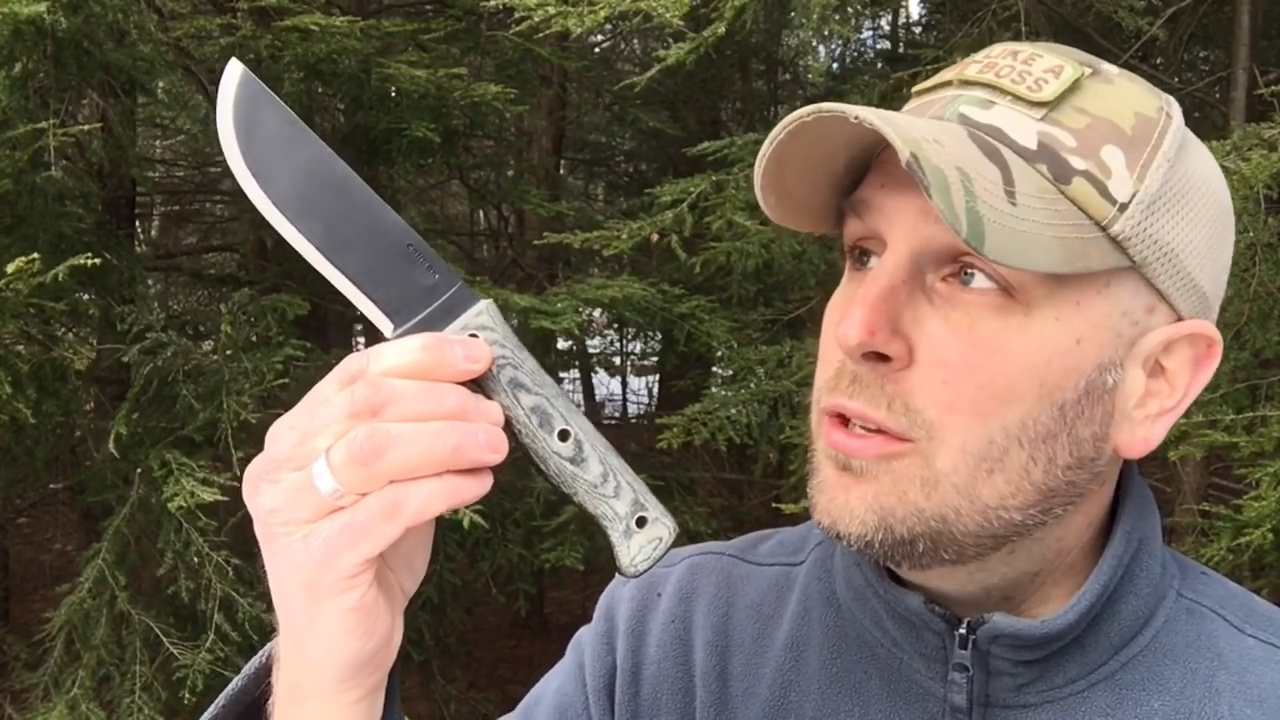knife: (201, 38, 530, 507)
